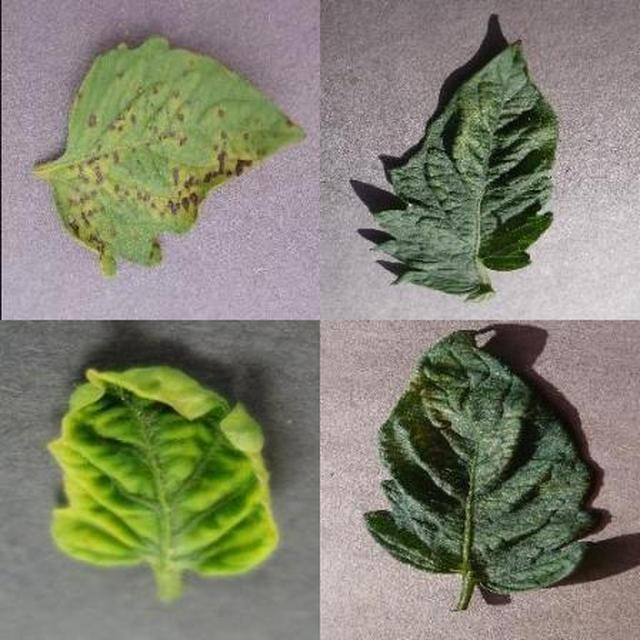Septoria Leaf: (233, 229, 640, 640)
